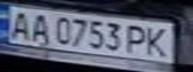0: (51, 15, 72, 46)
3: (103, 20, 127, 53)
5: (84, 17, 106, 51)
7: (66, 16, 90, 47)
A: (3, 8, 36, 41), (27, 11, 54, 44)
K: (142, 25, 175, 58)
P: (124, 22, 151, 56)
